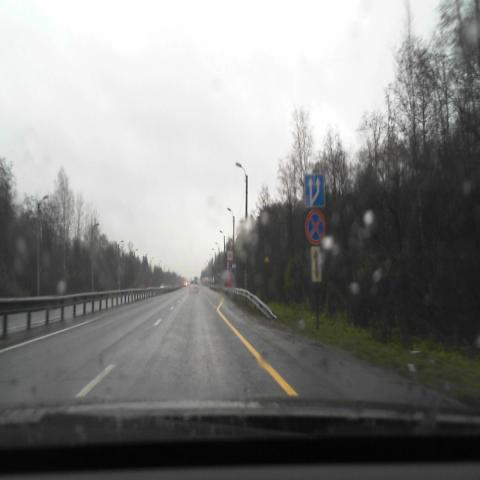8_2_4: (311, 247, 322, 282)
